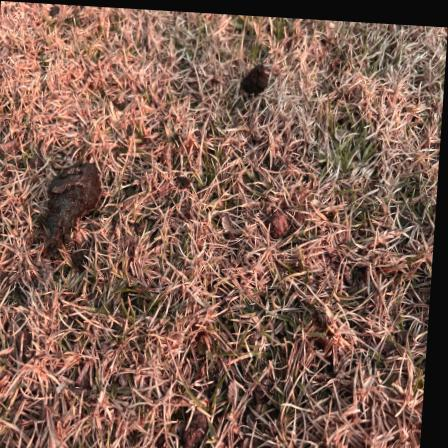dog-poop: (38, 152, 106, 243)
